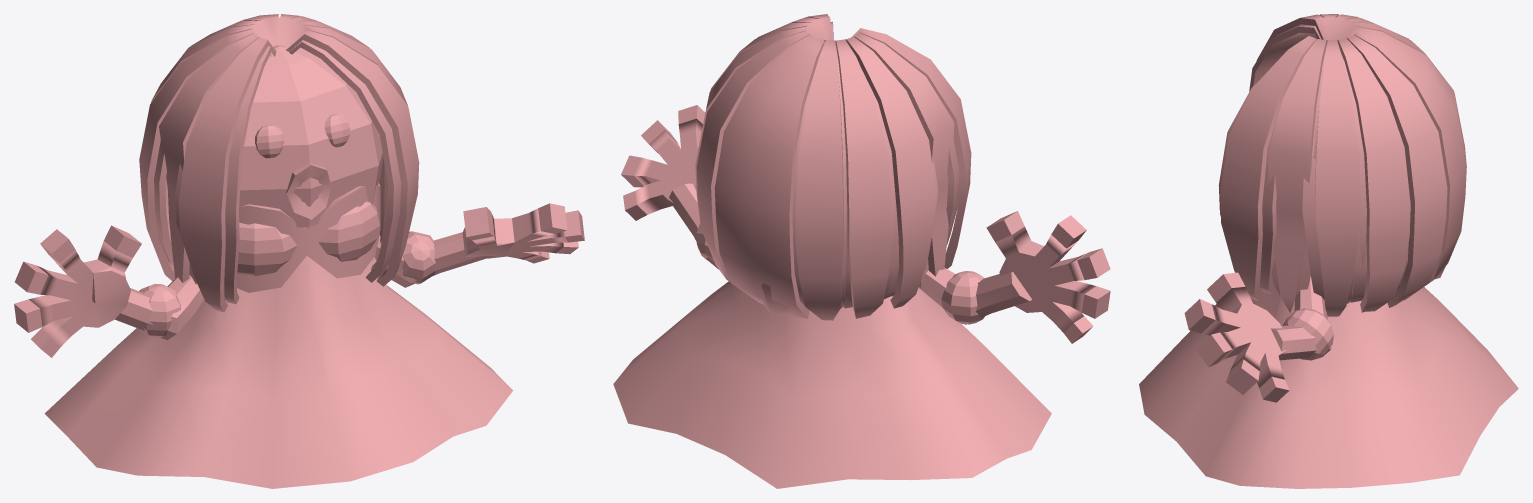
The model's file is jynx.glb.
3 views of the same model, side by side, from view 1: azimuth 30°, elevation 25°; view 2: azimuth 150°, elevation 25°; view 3: azimuth 270°, elevation 25° (orthographic).
Parts seen in each view (by area): view 1: Node; view 2: Node; view 3: Node.
Boxes of the visible parts, <box> form: Node: <box>14,14,584,488</box>; Node: <box>613,14,1110,488</box>; Node: <box>1139,14,1518,488</box>.
Bounding box in the file's own units: 17.67 × 12.55 × 11.41.
